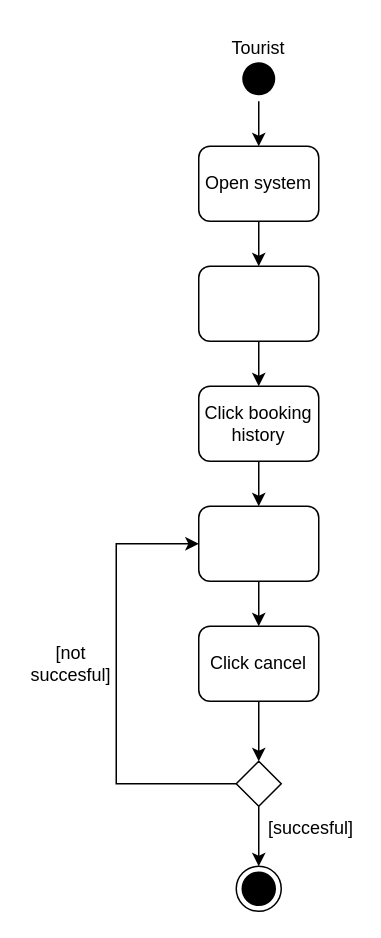
Some shapes in this 381 by 938 pixel diagram are drawn without their labels. Here are the shapes that lost their labels. From the top down, the centre of each, then its label:
At point 258,303: "Login".
At point 258,543: "Select booking".
